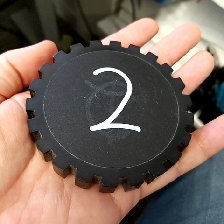gear: (25, 39, 195, 195)
